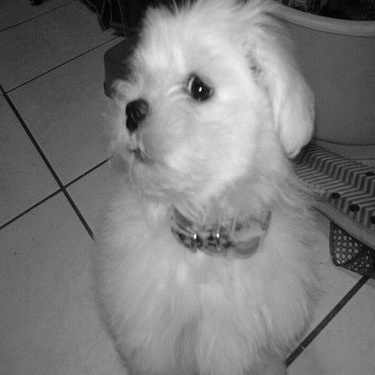dog: (79, 2, 339, 372)
